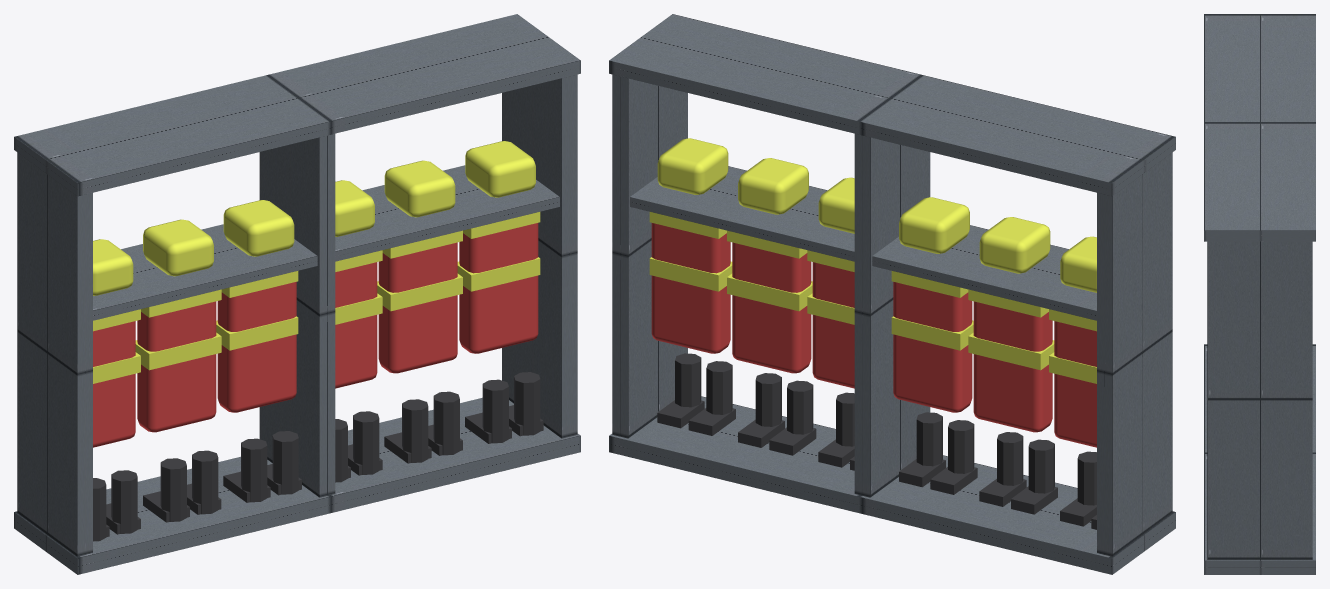
Rendered from fire-and-emergency-services-kit-racking-with-turnout-g-bbce3ce5__29889.glb.
3 renders of one model, left to right at view 1: azimuth 30°, elevation 25°; view 2: azimuth 150°, elevation 25°; view 3: azimuth 270°, elevation 25°, orthographic. The views are drawn at different scales.
Visible parts, largest first — view 1: kit-racking-with-turnout-gear; view 2: kit-racking-with-turnout-gear; view 3: kit-racking-with-turnout-gear.
Part boxes in pixels (x1,y1,x2,y2): kit-racking-with-turnout-gear: (14, 14, 580, 574); kit-racking-with-turnout-gear: (609, 14, 1175, 574); kit-racking-with-turnout-gear: (1204, 14, 1315, 574).
Size of the model in its own units: 3.2 by 2.38 by 0.7.
Materials: 5 (1 with a texture image).
